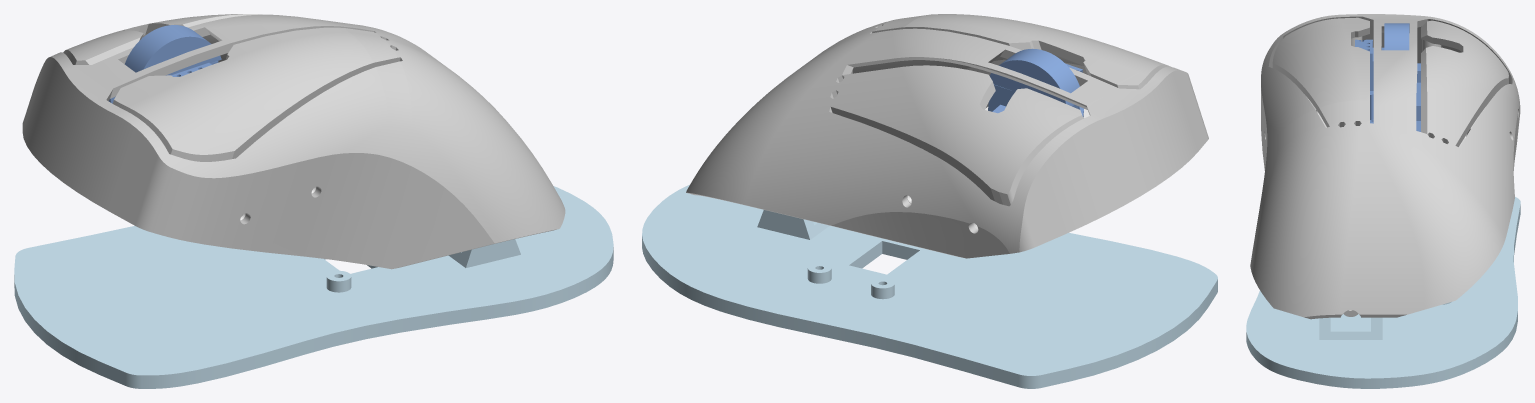
File: Mouse.gltf
3 renders of one model, left to right at view 1: azimuth 30°, elevation 25°; view 2: azimuth 150°, elevation 25°; view 3: azimuth 270°, elevation 25°, orthographic. The views are drawn at different scales.
Visible parts, largest first — view 1: Ergoshell, Base, HeadBoardOutline; view 2: Ergoshell, Base, HeadBoardOutline; view 3: Ergoshell, Base, HeadBoardOutline.
Boxes of the visible parts, <box> form: Ergoshell: <box>22,14,565,269</box>; Base: <box>14,186,613,388</box>; HeadBoardOutline: <box>108,25,221,103</box>; Ergoshell: <box>686,14,1208,258</box>; Base: <box>642,184,1217,388</box>; HeadBoardOutline: <box>988,48,1083,117</box>; Ergoshell: <box>1250,14,1520,319</box>; Base: <box>1246,197,1520,388</box>; HeadBoardOutline: <box>1355,23,1420,131</box>.
Bounding box in the file's own units: 0.1247 × 0.0605 × 0.0714.
